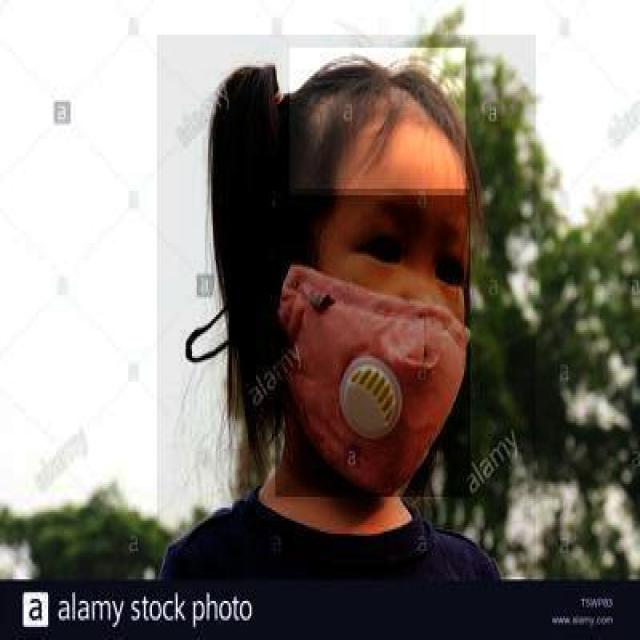face_mask: (275, 189, 472, 499)
head_nohelmet: (290, 48, 467, 197)
person: (157, 35, 538, 579)
